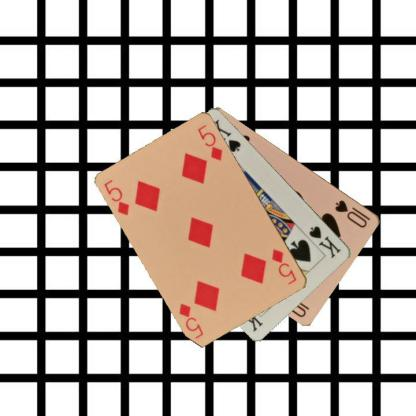10s: (332, 197, 372, 229)
5d: (269, 246, 298, 286), (102, 177, 131, 217)
Ks: (306, 223, 342, 260)
